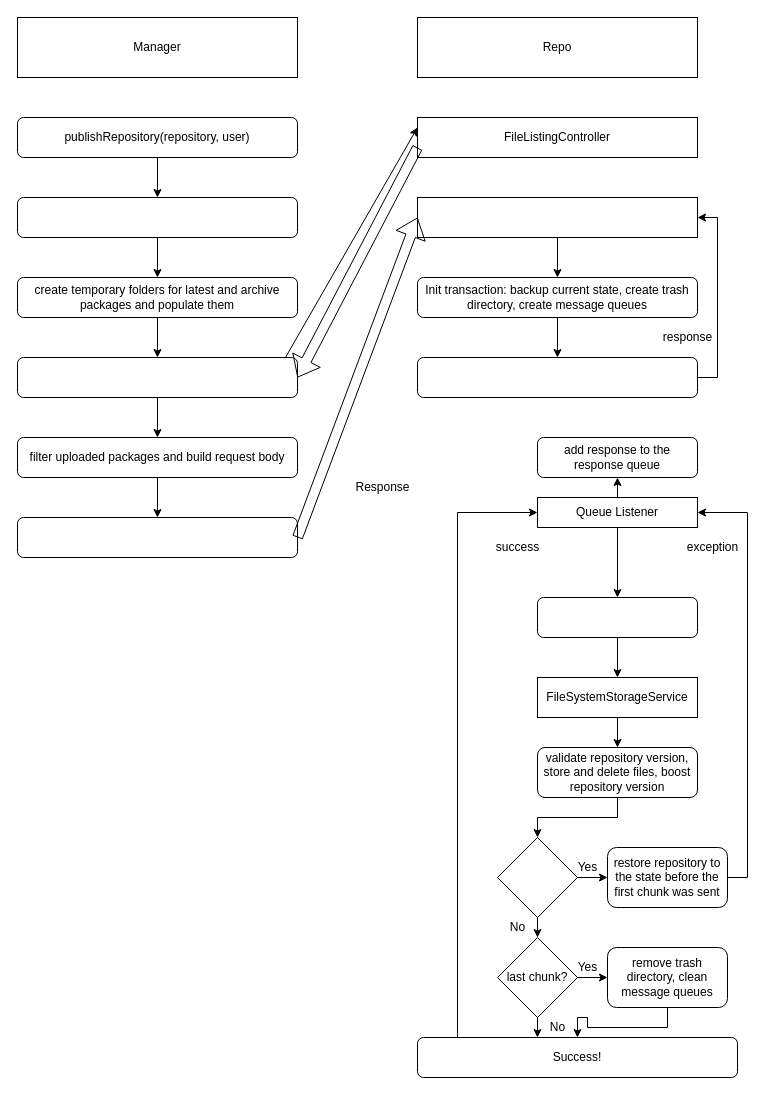
Some shapes in this 773 by 1095 pixel diagram are drawn without their labels. The shapes that lost their labels are listed below. From the top down, each one's box as (x1, y1, x2, y2) in pixels, then its label:
(16, 196, 298, 238): create folder structure and populate packages in the Manager file system
(416, 196, 698, 238): FileUploadController
(16, 356, 298, 398): get already uploaded packages list from the repository
(416, 356, 698, 398): add chunk to the request queue and await response added by Queue Listener
(16, 516, 298, 558): split request into chunks and send them to Repo
(536, 596, 698, 638): process request
(496, 836, 578, 918): failure?
